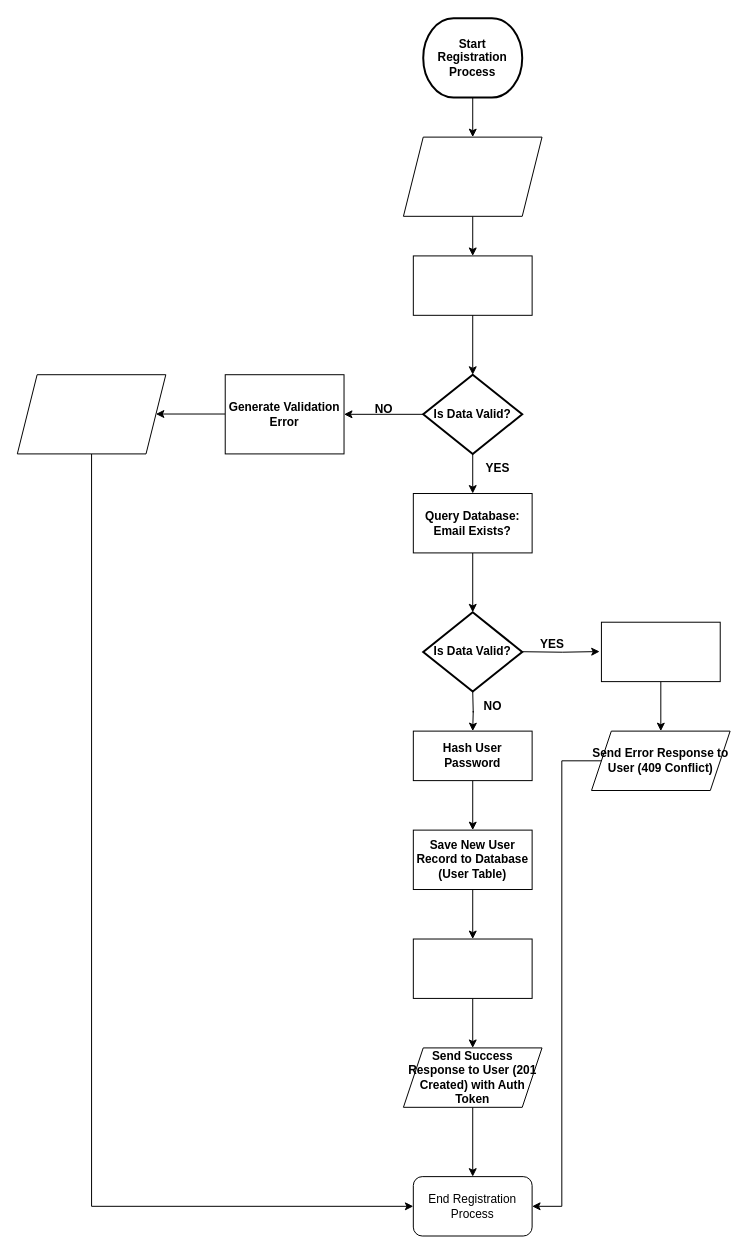
Image size: 747x1253. Some labels were removed from this diagram. Each missing label, with the centre of its shape:
"Generate 'Email Exists' Error" belongs at (660,651).
"Generate Authentication Token (e.g., JWT)" belongs at (472,968).
"Receive User Registration Data (Email, Password, Role)" belongs at (472,176).
"Send Error Response to User (400 Bad Request)" belongs at (91,414).
"Validate Input Data (Format, Strength, Required Fields)" belongs at (472,285).
